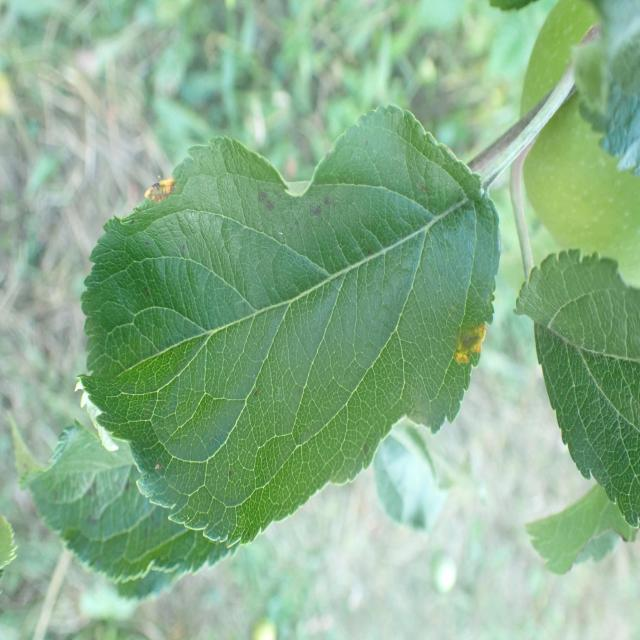rust: (74, 102, 502, 550)
